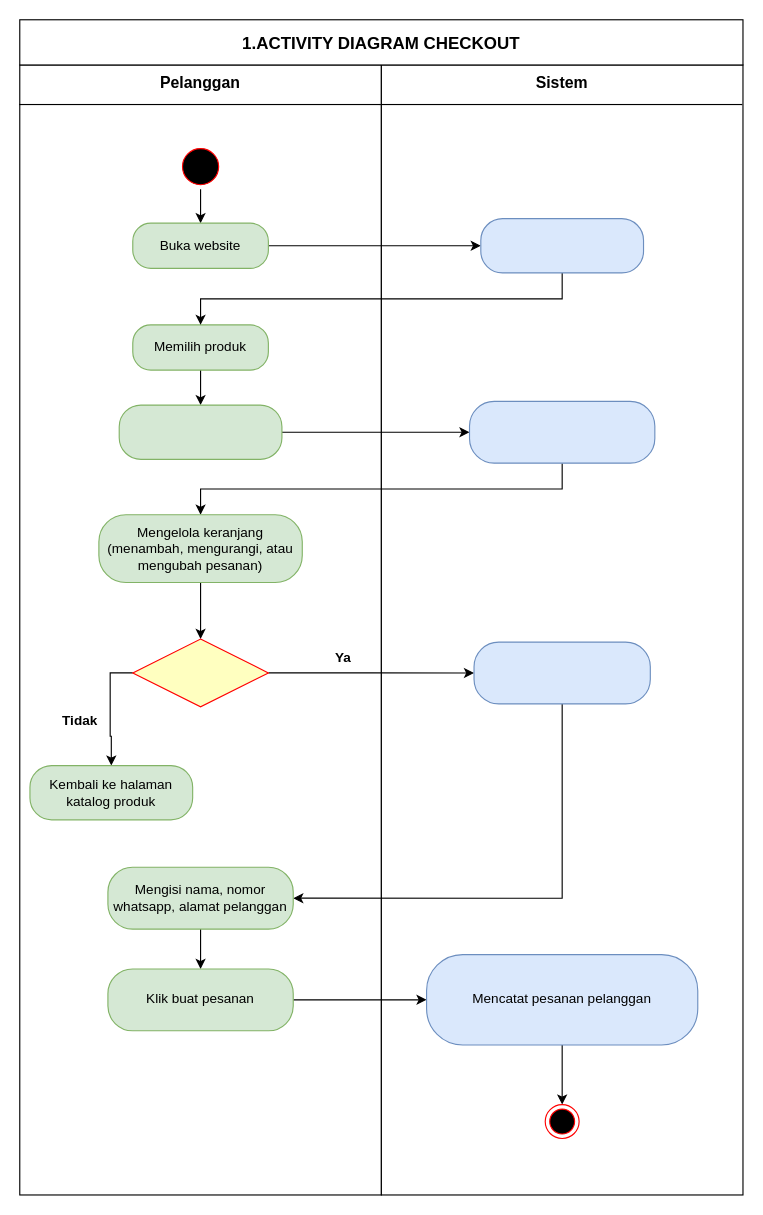
This 763x1215 diagram has some shape labels left out. The centre of each missing label's shape, as x and y in pixels:
Klik tombol checkout?: (x=200, y=672)
Klik tombol masukkan ke keranjang: (x=200, y=431)
Memasukkan produk yang dipilih ke keranjang: (x=561, y=431)
Menampilakan form pengisian data pelanggan: (x=561, y=672)
Menampilkan katalog produk: (x=562, y=245)
